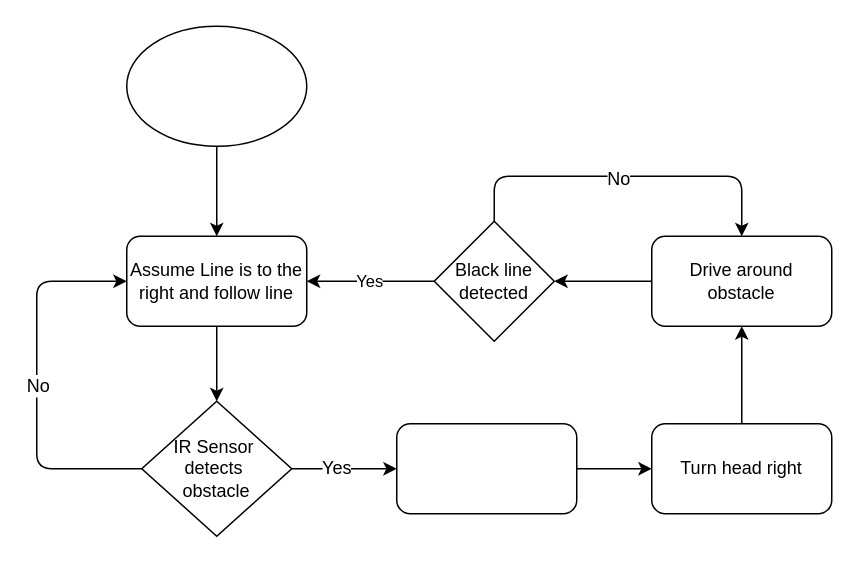
This 858x563 diagram has some shape labels left out. Each missing label, with the centre of its shape:
"Start" belongs at point (216, 85).
"Turn body left" belongs at point (486, 468).
